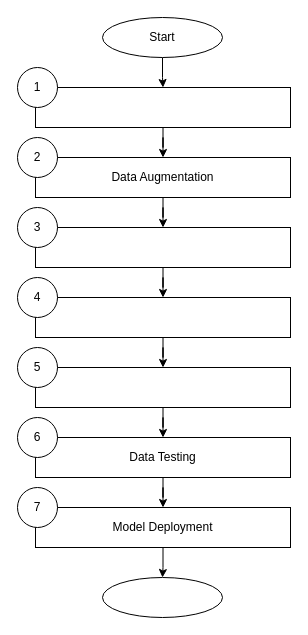
This 308x635 diagram has some shape labels left out. Here are the shapes that lost their labels. From the top down, the box of each, then its label:
(34, 86, 290, 128): Data Collection
(34, 226, 290, 268): Data Annotaion
(34, 296, 290, 338): Data Splitting
(34, 366, 290, 408): Data Training
(102, 576, 222, 618): End
